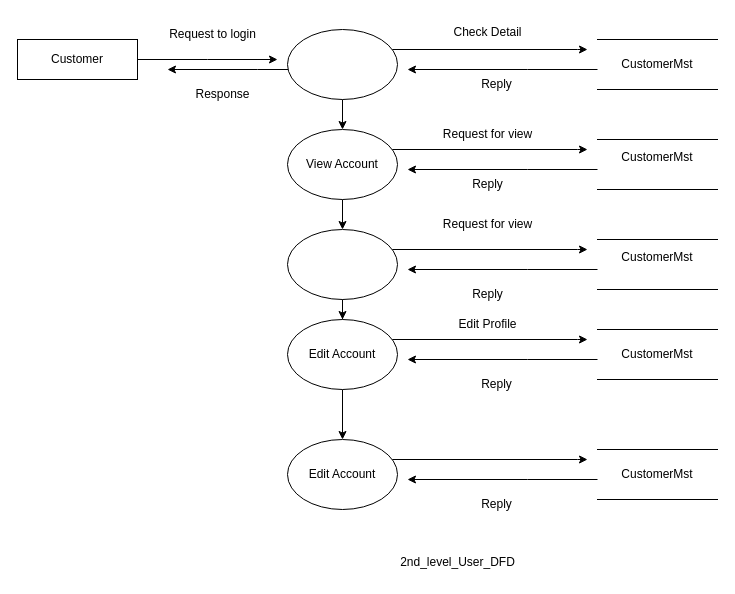
Some shapes in this 735 by 594 pixel diagram are drawn without their labels. The shapes that lost their labels are listed below. From the top down, each one's box as (x1, y1, x2, y2) in pixels, then its label:
(286, 28, 398, 100): Login
(286, 228, 398, 300): Change Password
